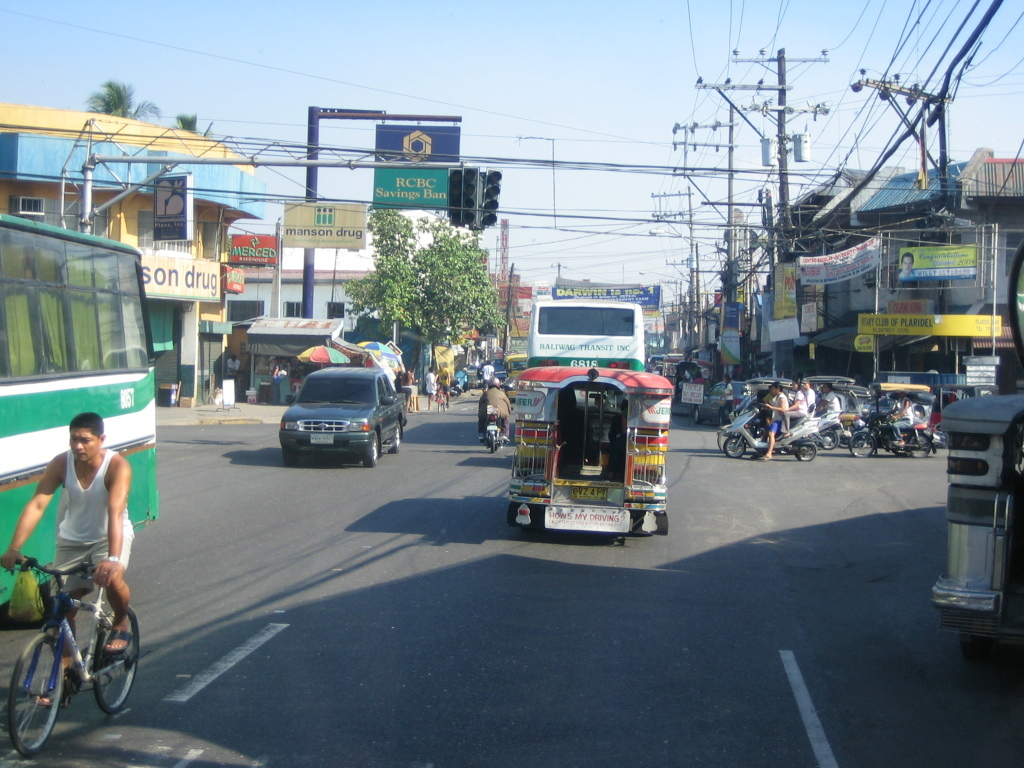Bus: (0, 211, 156, 620), (528, 291, 647, 371)
